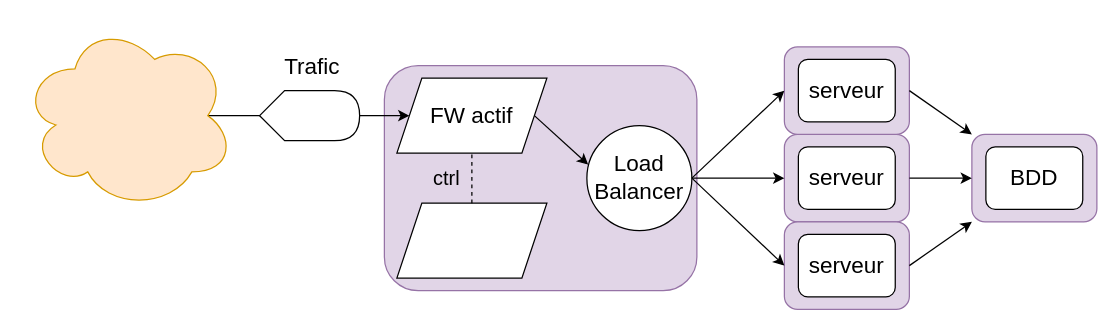
Image size: 1119x331. Some labels were removed from this diagram. The shapes that lost their labels are listed below. From the top down, each one's centre as x and y in pixels, then its label:
(x=127, y=115): Réseau de capteurs
(x=309, y=115): VPN
(x=471, y=240): FW passif
